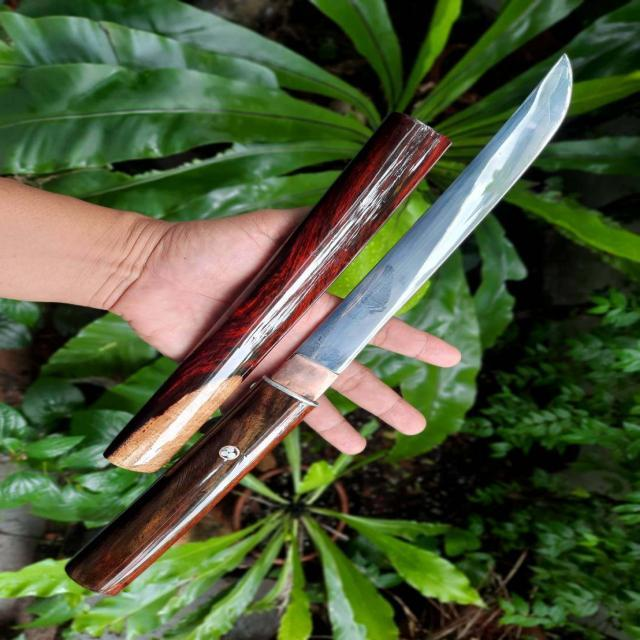short sword: (57, 49, 588, 602)
